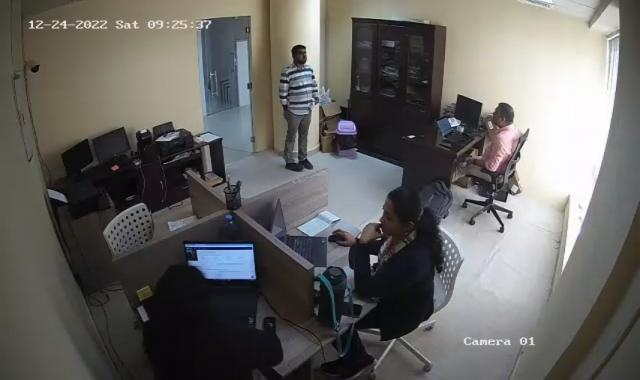no_hairnet: (154, 267, 209, 325), (378, 186, 422, 236), (490, 102, 515, 127), (290, 42, 309, 65)
